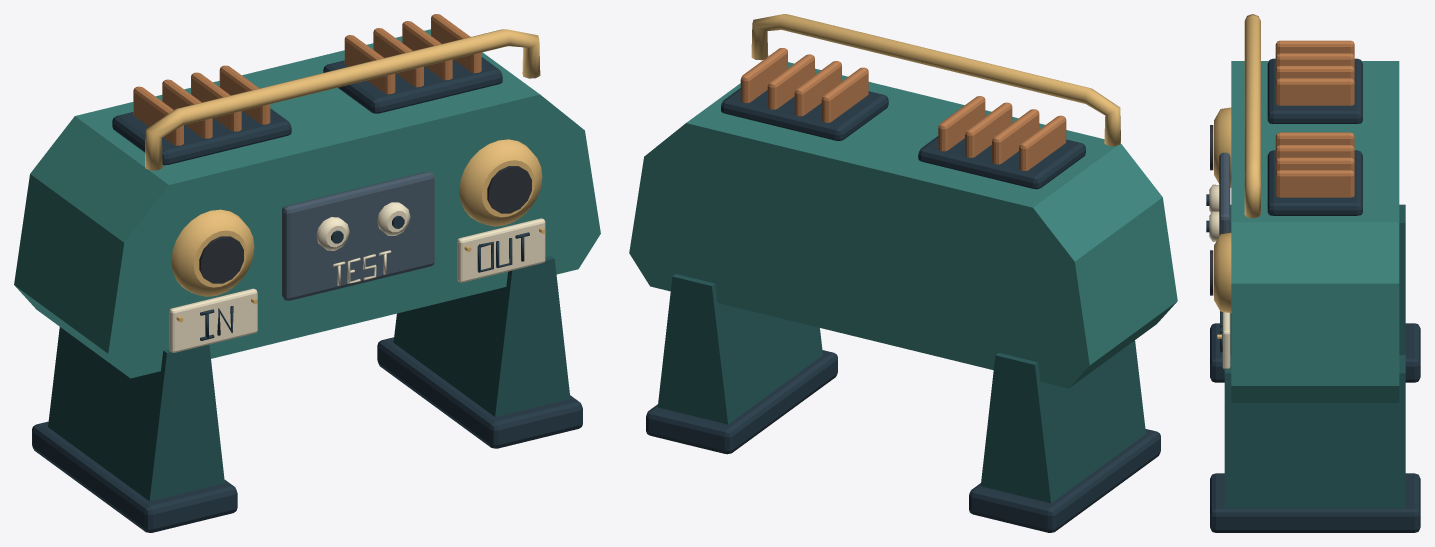
The picture shows the model from 3 angles, left to right: view 1: azimuth 30°, elevation 25°; view 2: azimuth 150°, elevation 25°; view 3: azimuth 270°, elevation 25°; orthographic projection. The views are drawn at different scales.
Parts seen in each view (by area): view 1: PR031 workshop surfaces; view 2: PR031 workshop surfaces; view 3: PR031 workshop surfaces.
Part boxes in pixels (box(x1,y1,x2,y2)): PR031 workshop surfaces: box(14, 14, 600, 532); PR031 workshop surfaces: box(629, 14, 1177, 532); PR031 workshop surfaces: box(1206, 14, 1420, 532).
Bounding box in the file's own units: 1.56 × 1.2 × 0.6592.
